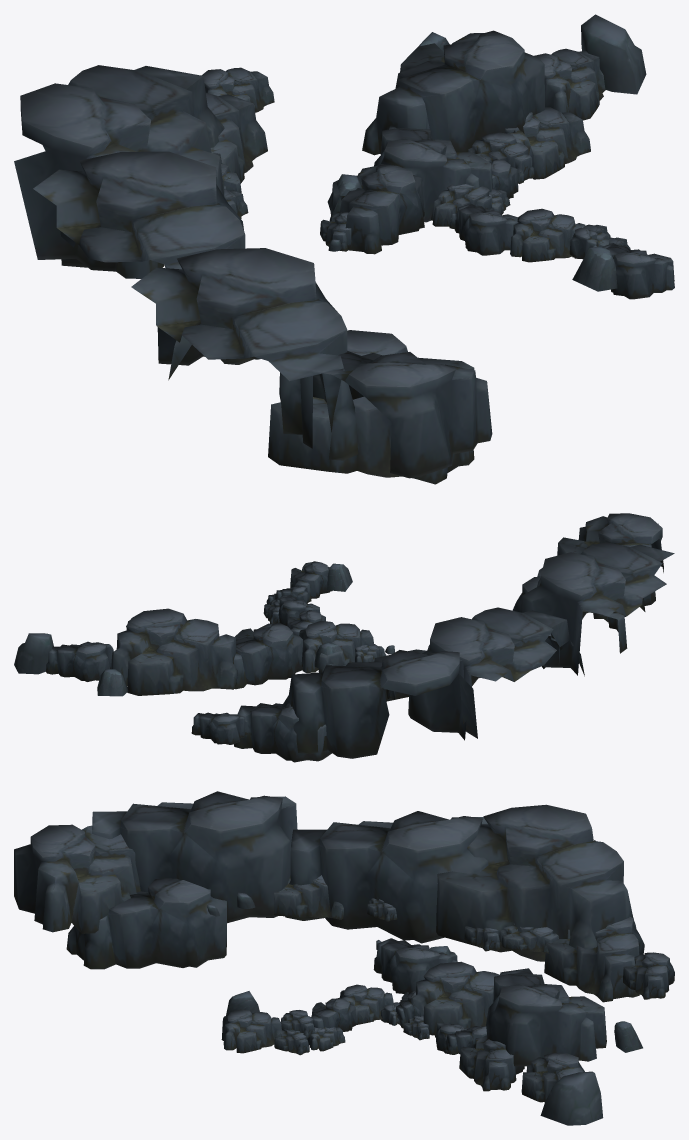
File: shitou07.fbx
The picture shows the model from 3 angles, top to bottom: view 1: azimuth 30°, elevation 25°; view 2: azimuth 150°, elevation 25°; view 3: azimuth 270°, elevation 25°; orthographic projection. The views are drawn at different scales.
Parts seen in each view (by area): view 1: shitou07; view 2: shitou07; view 3: shitou07.
Part boxes in pixels (x1,y1,x2,y2): shitou07: (14, 14, 674, 484); shitou07: (14, 513, 674, 762); shitou07: (14, 791, 674, 1125).
Bounding box in the file's own units: 14134 × 2848 × 15289.
